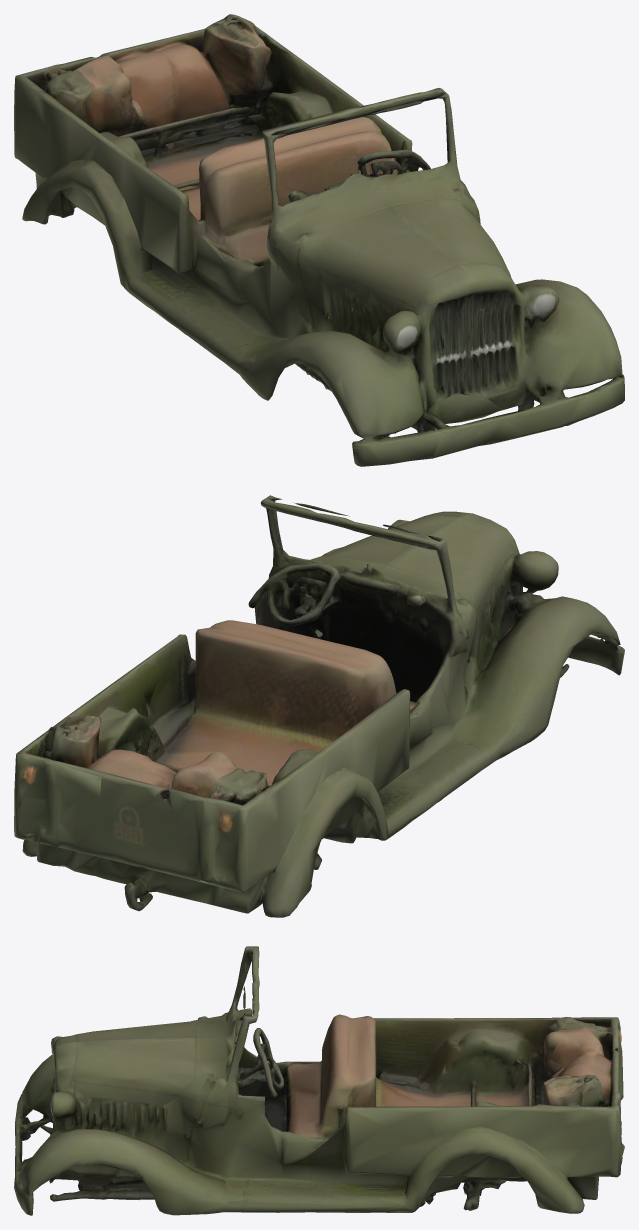
File: jeep_body.glb
3 renders of one model, top to bottom at view 1: azimuth 30°, elevation 25°; view 2: azimuth 150°, elevation 25°; view 3: azimuth 270°, elevation 25°, orthographic. The views are drawn at different scales.
Size of the model in its own units: 0.8725 by 0.6965 by 2.
Materials: 1 (1 with a texture image).
